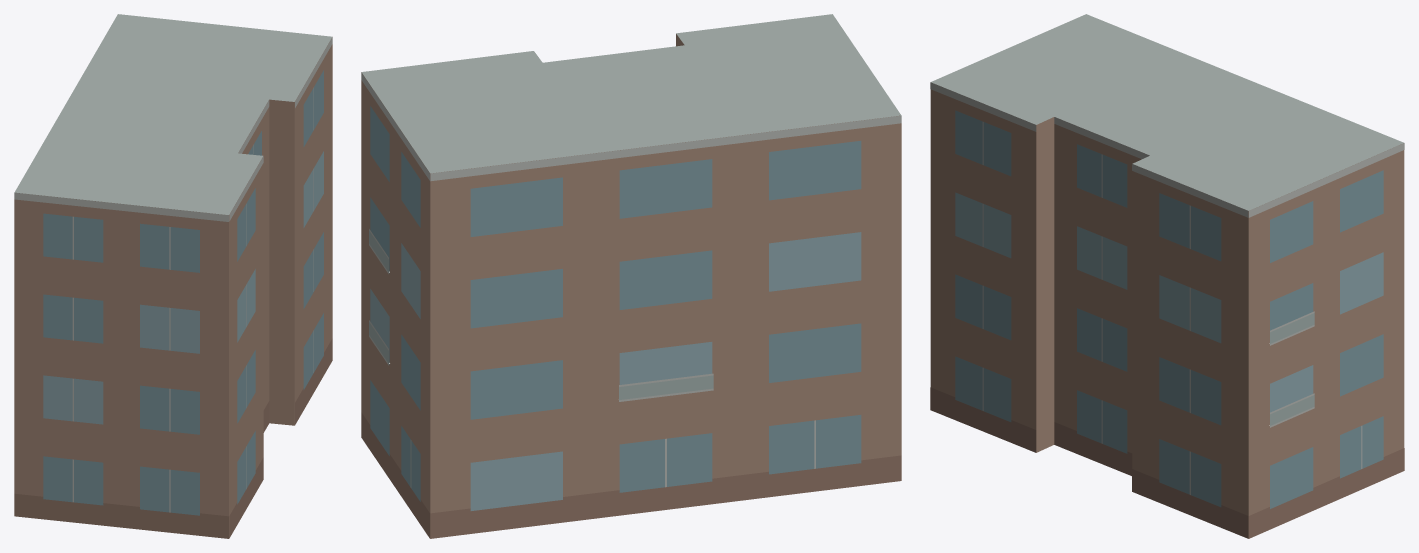
File: survey-upis-32688562.glb
The picture shows the model from 3 angles, left to right: view 1: azimuth 30°, elevation 25°; view 2: azimuth 150°, elevation 25°; view 3: azimuth 270°, elevation 25°; orthographic projection. The views are drawn at different scales.
Visible parts, largest first — view 1: survey-upis-32688562.tmp; view 2: survey-upis-32688562.tmp; view 3: survey-upis-32688562.tmp.
Part boxes in pixels (x1=…): survey-upis-32688562.tmp: x1=14, y1=14, x2=332, y2=538; survey-upis-32688562.tmp: x1=361, y1=14, x2=901, y2=538; survey-upis-32688562.tmp: x1=930, y1=14, x2=1404, y2=538.
Bounding box in the file's own units: 14.69 × 11.4 × 14.94.
